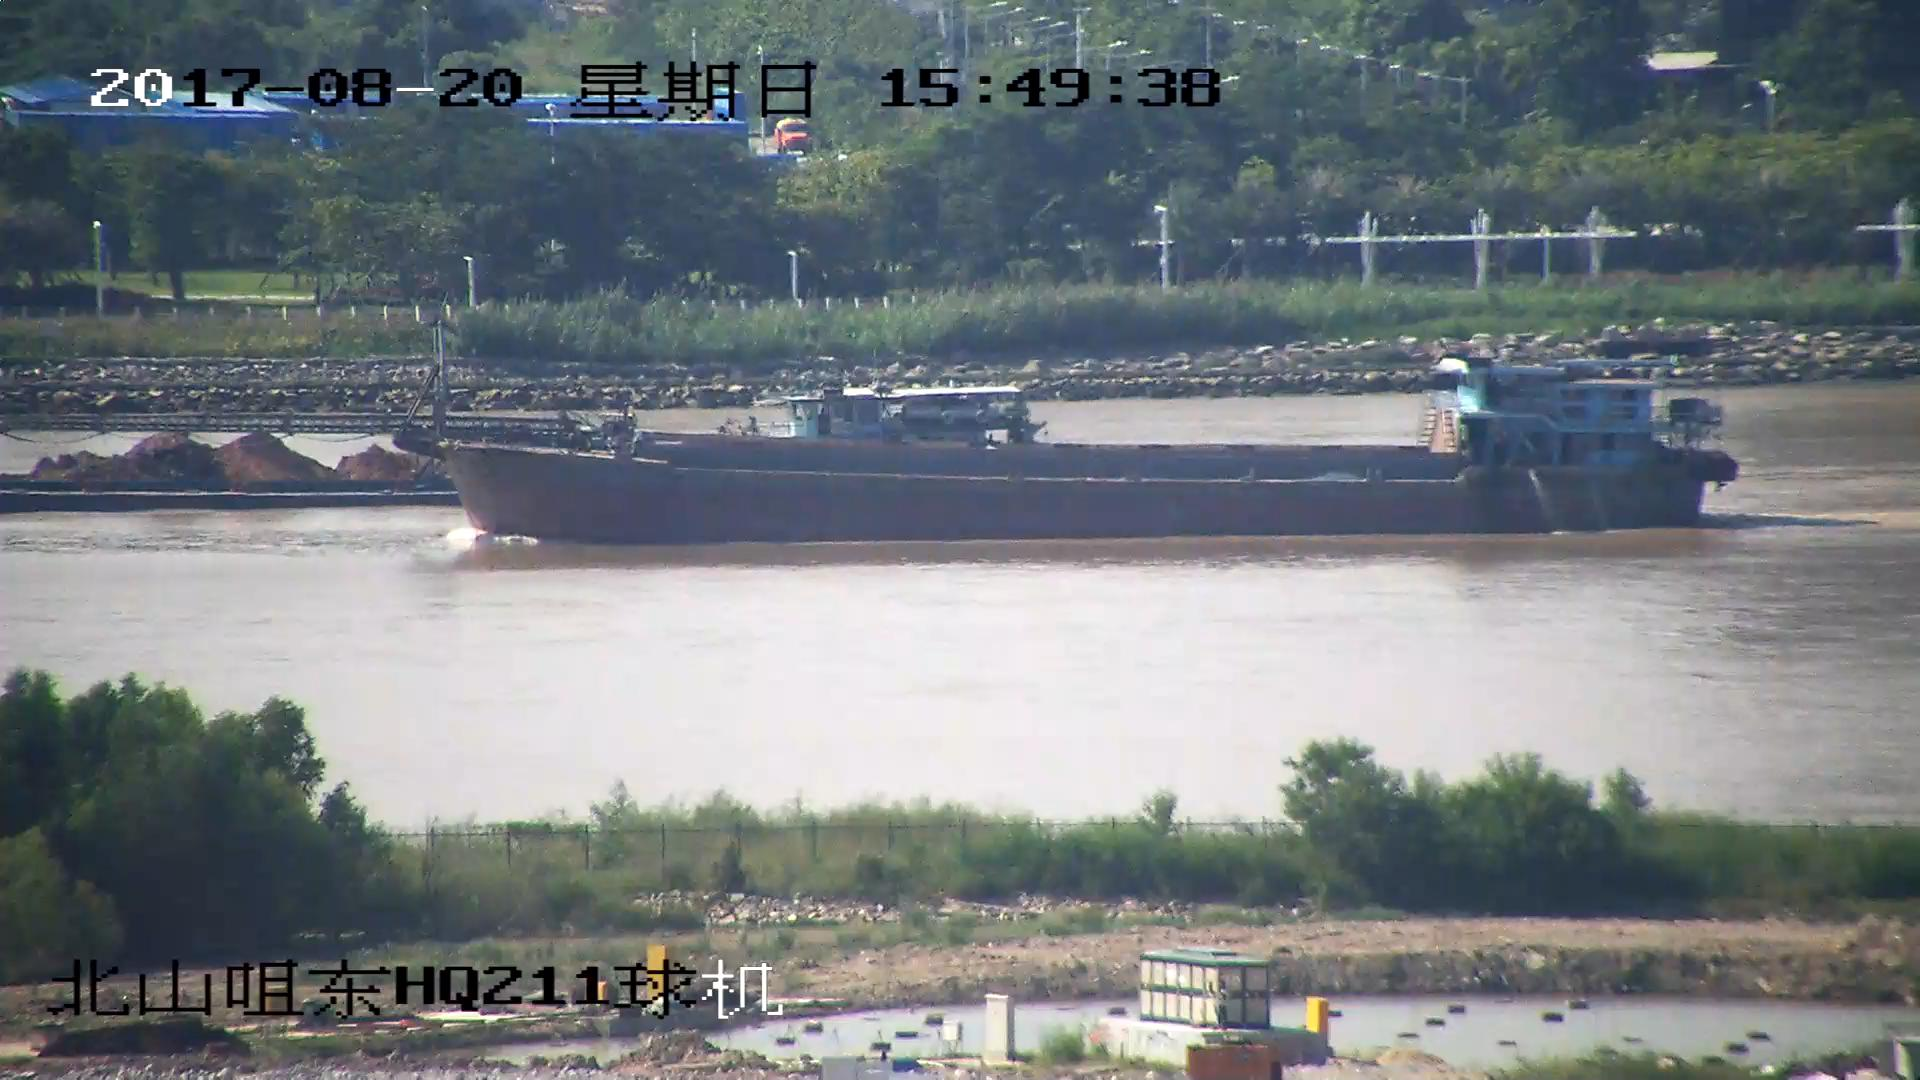bulk cargo carrier: (61, 350, 1740, 541)
ore carrier: (1, 380, 1044, 510)
